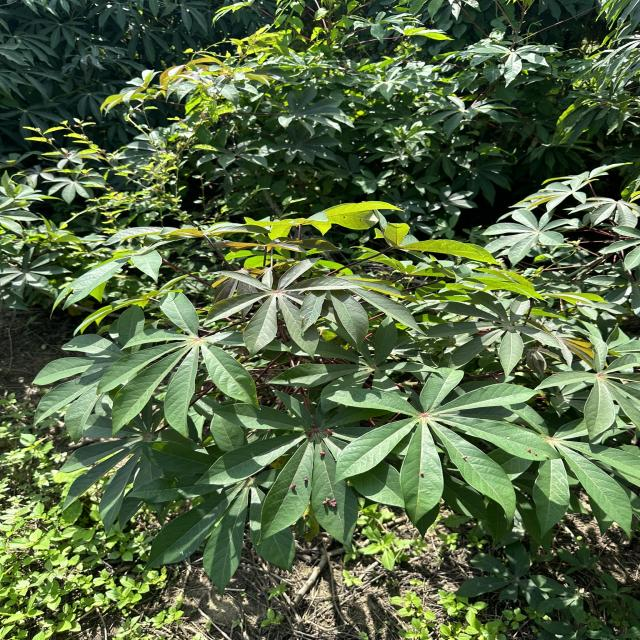Maleza: (0, 530, 115, 640)
Mosca: (318, 494, 346, 518), (450, 446, 477, 468), (302, 419, 326, 443), (288, 476, 314, 497), (314, 443, 332, 467), (410, 470, 433, 486), (524, 445, 548, 458), (325, 422, 333, 445)
